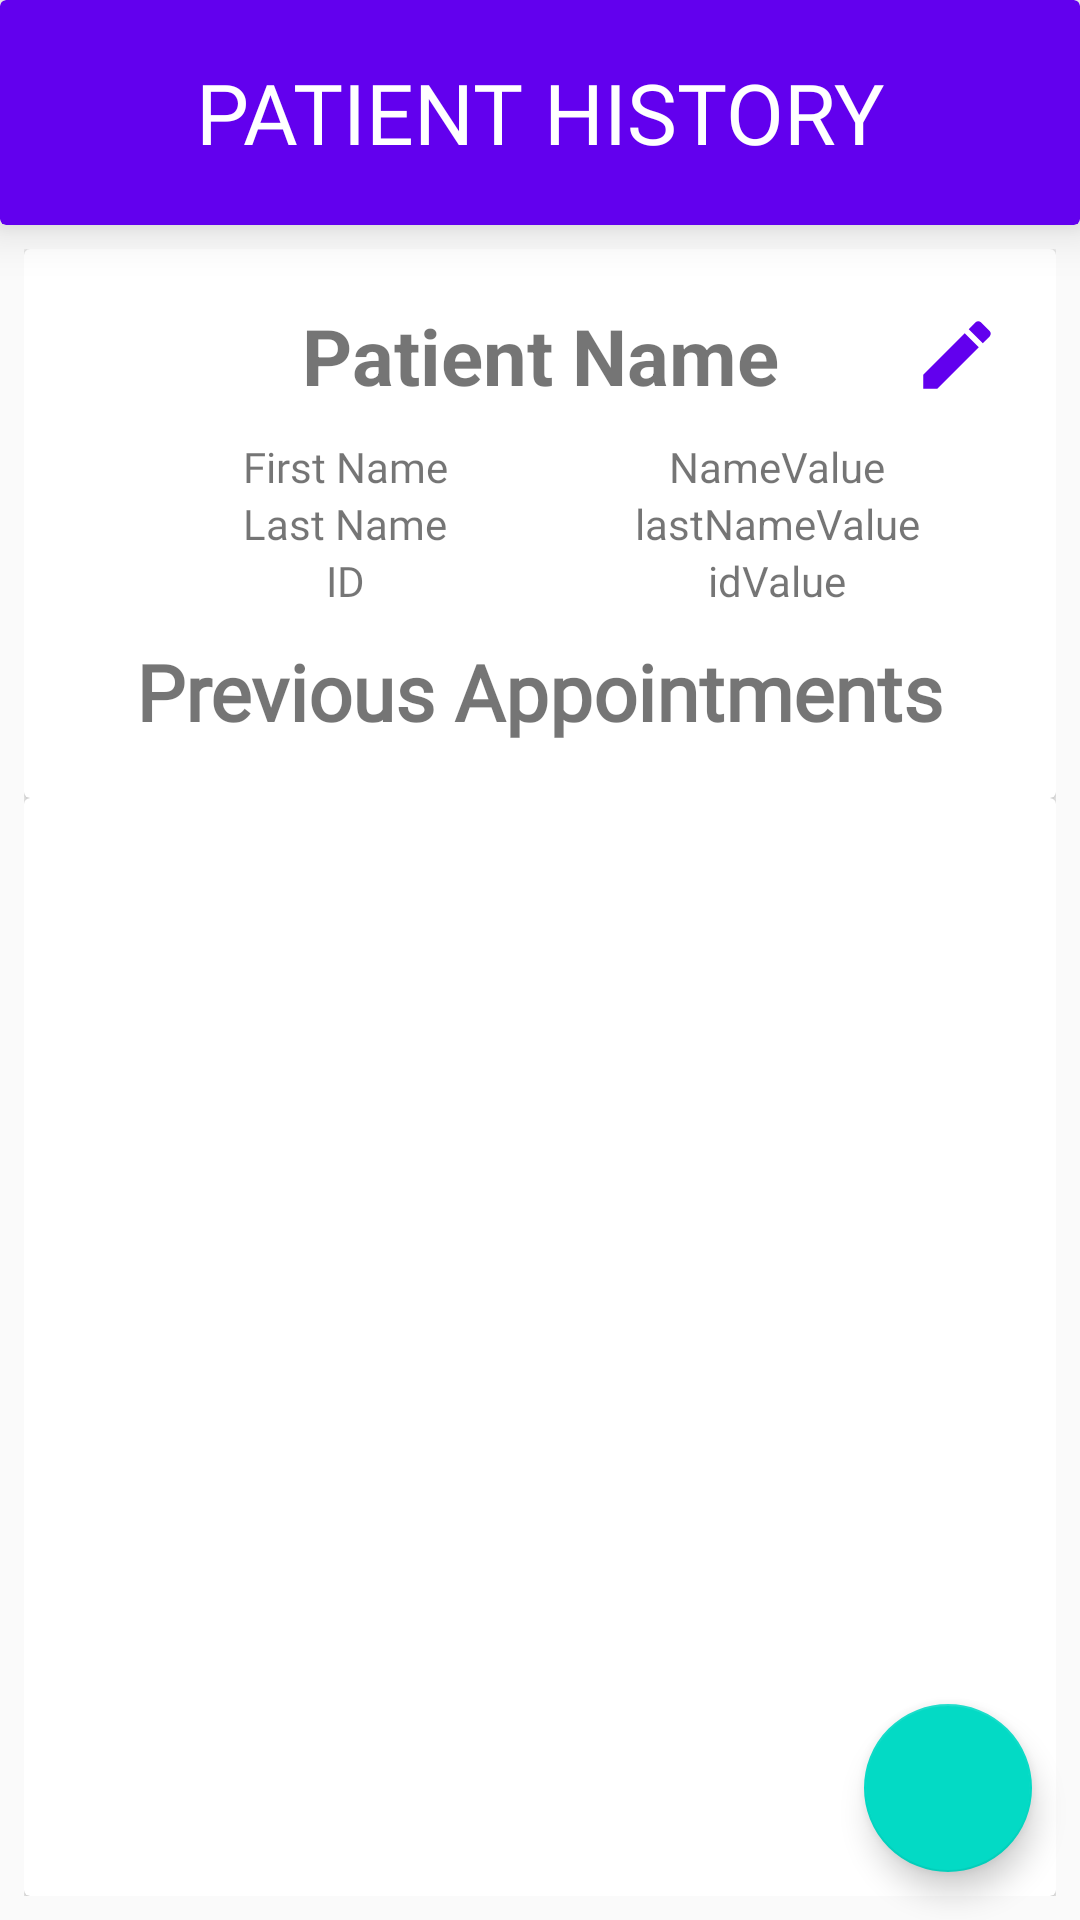

Icons on this 1080w x 1920h Android screen, each with the point to tap as (x,y):
edit: (957,355)
